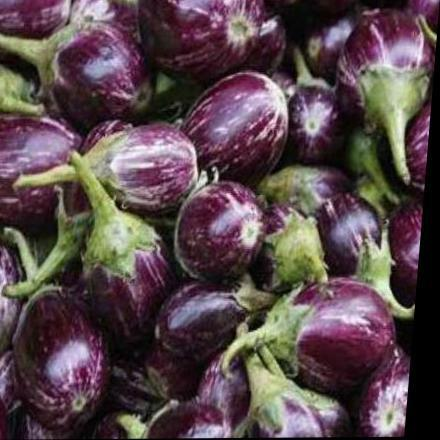eggplant: (0, 2, 439, 433)
